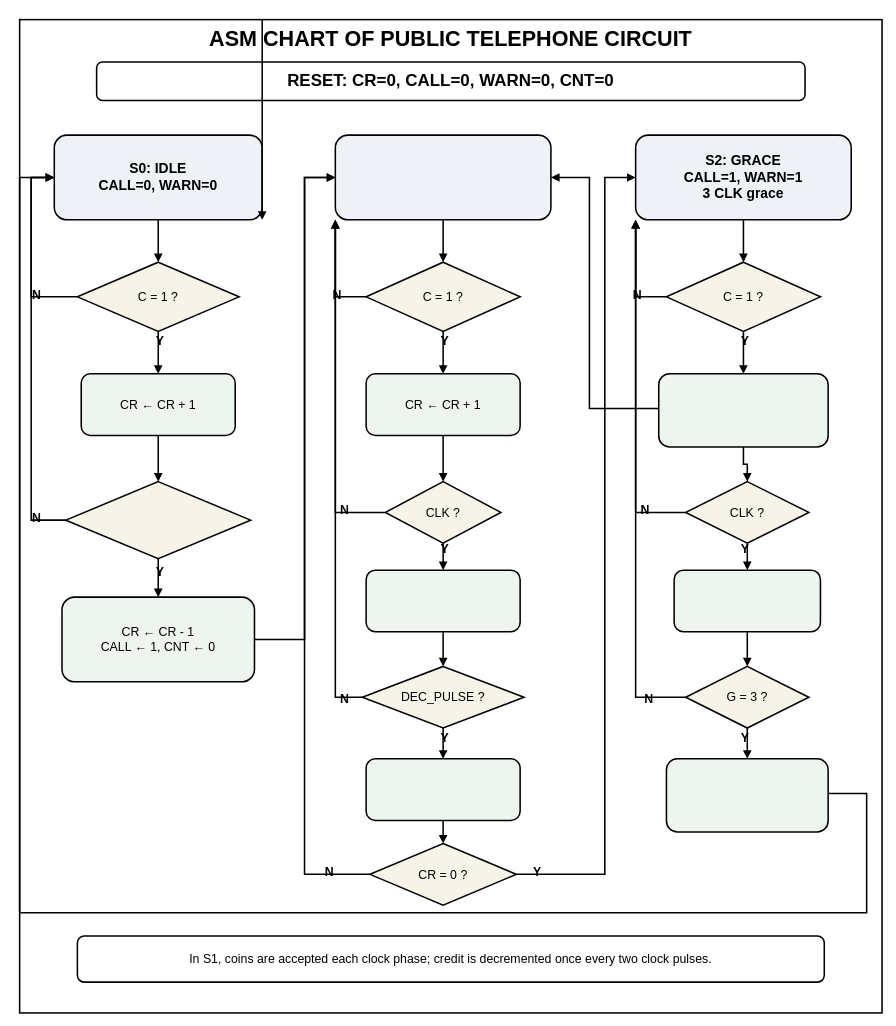
The diagram is 896 pixels wide and 1026 high, and some of its shapes have lost their labels. The shapes that lost their labels are listed below. From the top down, each one's centre as x and y in pixels, then its label:
point (442, 177): S1: CALL ACTIVE CR>0, CALL=1, WARN=0
point (743, 410): CR ← CR + 1 WARN ← 0, G ← 0
point (158, 519): ST = 1 and CR > 0 ?
point (443, 600): DIV ← DIV xor 1
point (747, 600): G ← G + 1
point (443, 789): CR ← CR - 1
point (747, 795): CALL ← 0 G ← 0
